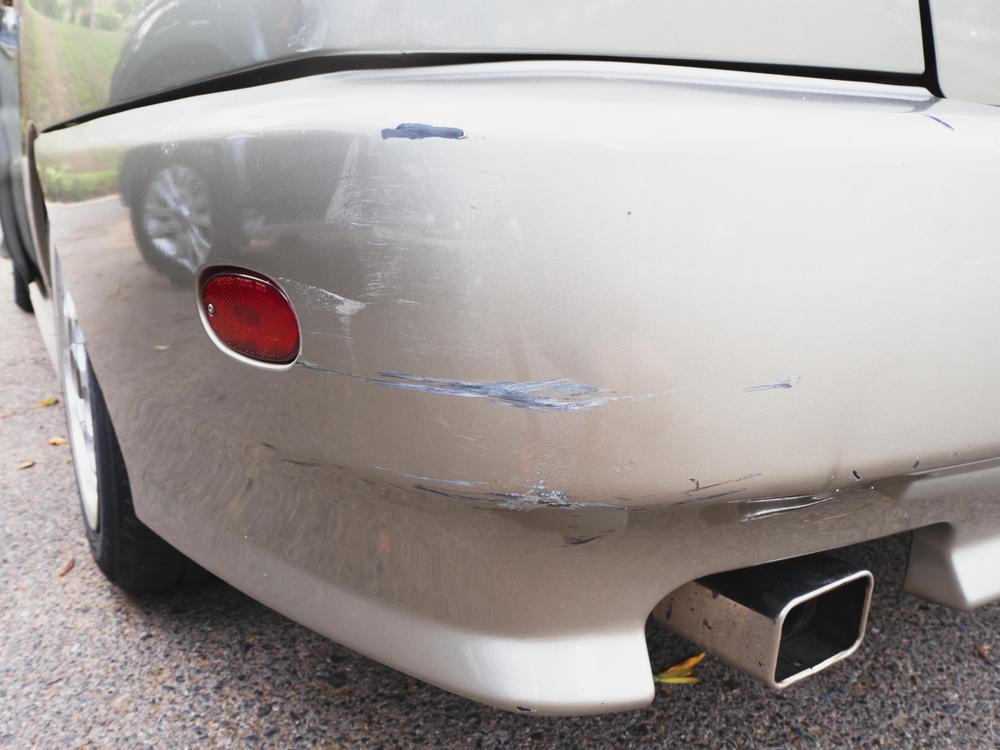scratch: (258, 119, 838, 553)
